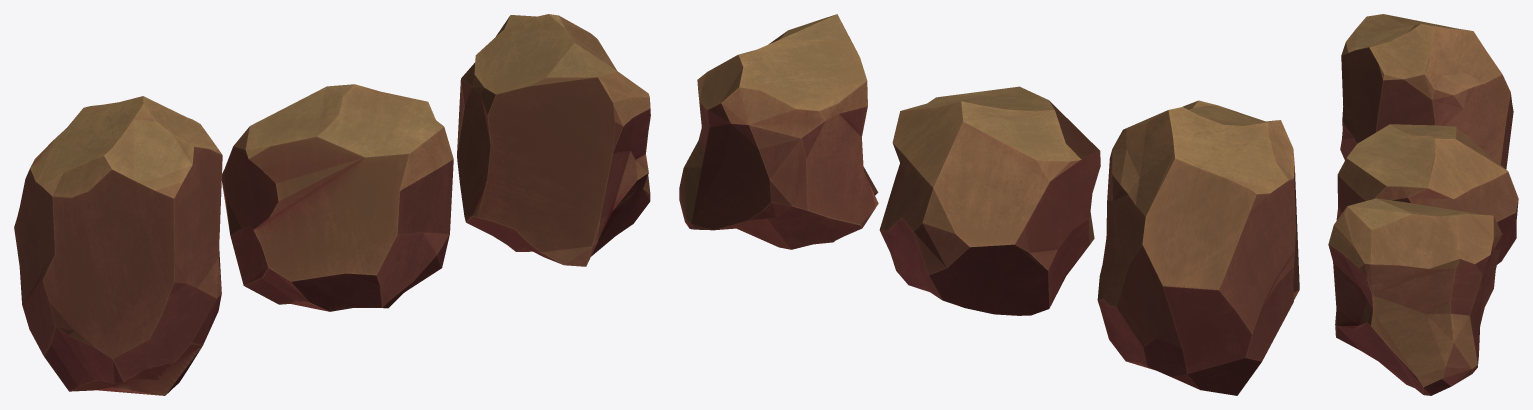
The model's file is Rochas.fbx.
The picture shows the model from 3 angles, left to right: view 1: azimuth 30°, elevation 25°; view 2: azimuth 150°, elevation 25°; view 3: azimuth 270°, elevation 25°; orthographic projection. The views are drawn at different scales.
Parts seen in each view (by area): view 1: Rocha01, Rocha02, Rocha03; view 2: Rocha01, Rocha02, Rocha03; view 3: Rocha03, Rocha01, Rocha02.
Part boxes in pixels (box(x1,y1,x2,y2)): Rocha01: box(14, 96, 222, 395); Rocha02: box(221, 84, 453, 311); Rocha03: box(457, 14, 650, 266); Rocha01: box(1097, 100, 1299, 395); Rocha02: box(879, 86, 1100, 315); Rocha03: box(679, 14, 878, 249); Rocha03: box(1328, 198, 1502, 395); Rocha01: box(1340, 14, 1513, 169); Rocha02: box(1336, 124, 1518, 264).
Size of the model in its own units: 1794 by 783 by 620.
